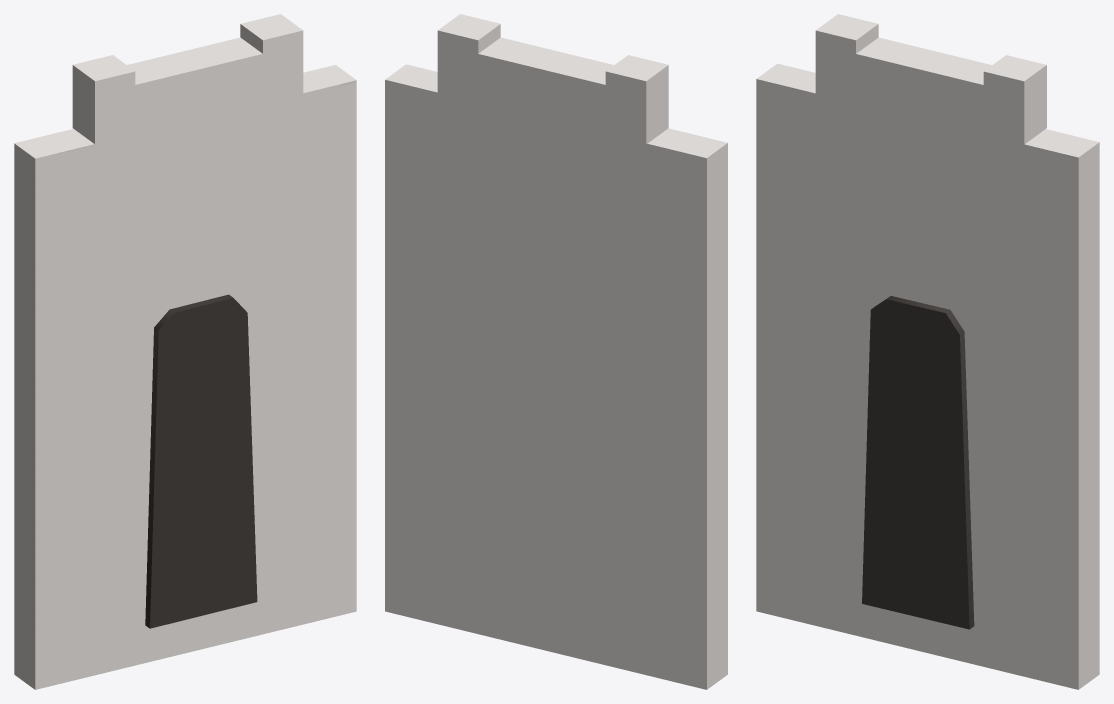
File: JazHerminiaSilva.fbx
3 views of the same model, side by side, from view 1: azimuth 30°, elevation 25°; view 2: azimuth 150°, elevation 25°; view 3: azimuth 330°, elevation 25° (orthographic).
Parts seen in each view (by area): view 1: root (×5); view 2: root (×4); view 3: root (×5).
Boxes of the visible parts, x1,y1,x2,y2 form: root (×5): (14,14,356,689); root (×4): (385,14,727,689); root (×5): (756,14,1099,689).
Size of the model in its own units: 1.96 by 3.46 by 0.2825.
Materials: 4 (4 with a texture image).
